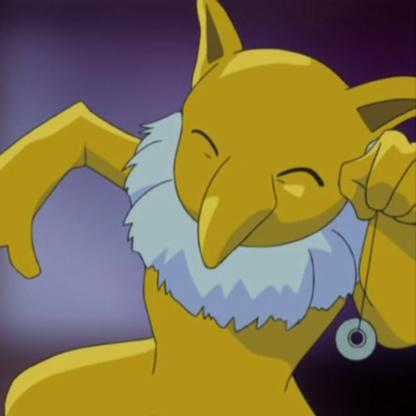Hypno: (3, 1, 416, 416)
